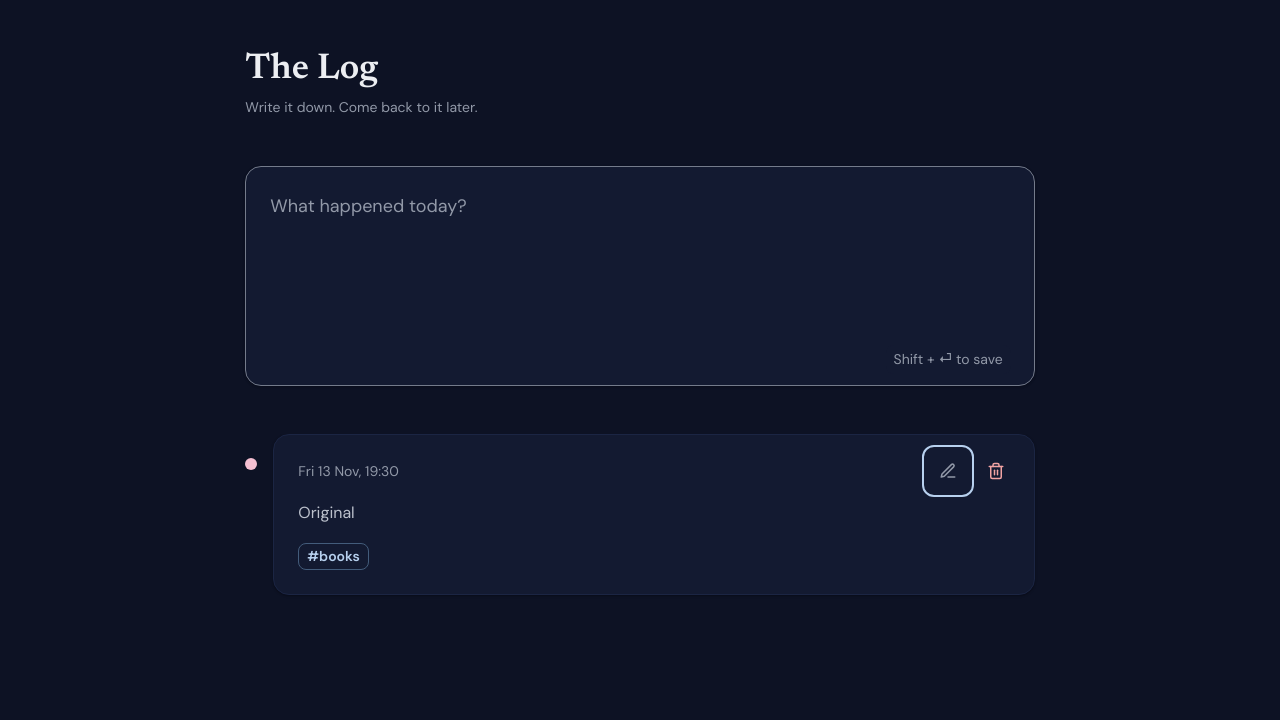
it: fills the opener button while its dialog is open and clears it on close
Click the button named "Edit thought, Fri 13 Nov, 19:30" at (948, 471), box top-left (926, 449), bottom-right (970, 493)
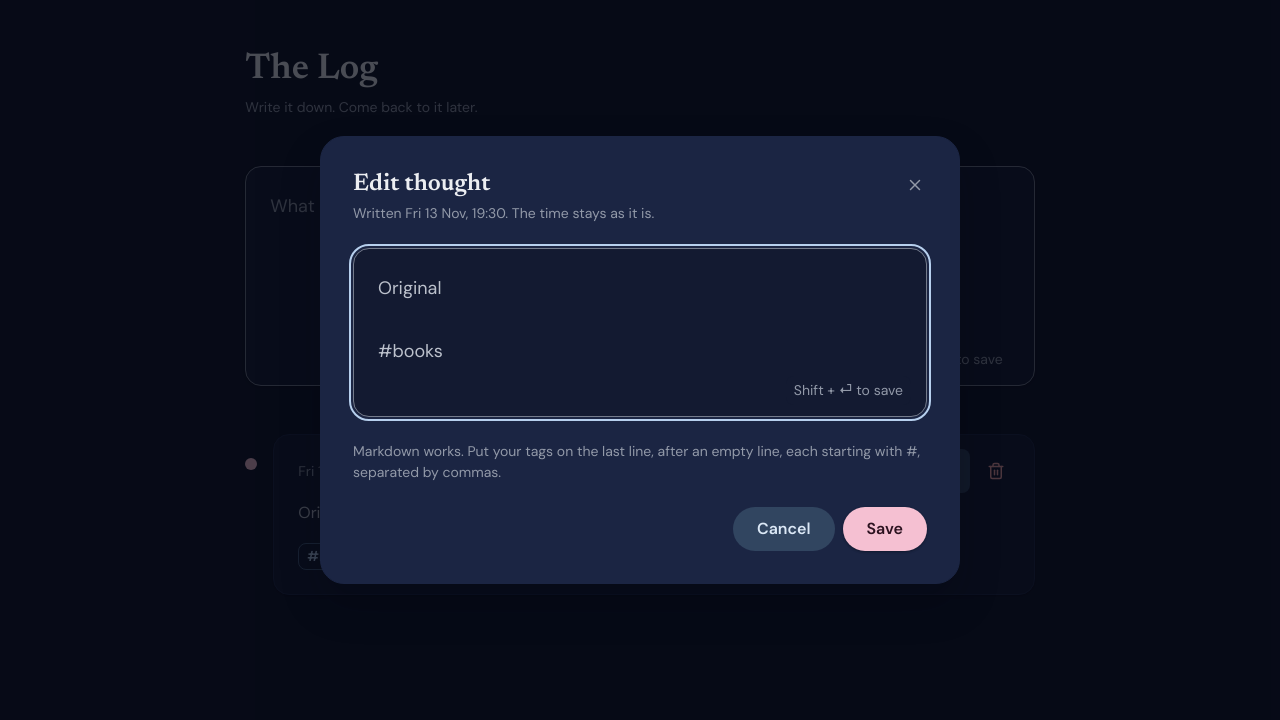
Check: the button named "Edit thought, Fri 13 Nov, 19:30" has attribute data-dialog-open, box top-left (926, 449), bottom-right (970, 493)
Click the button "Cancel" at (784, 529), box top-left (733, 507), bottom-right (834, 551)
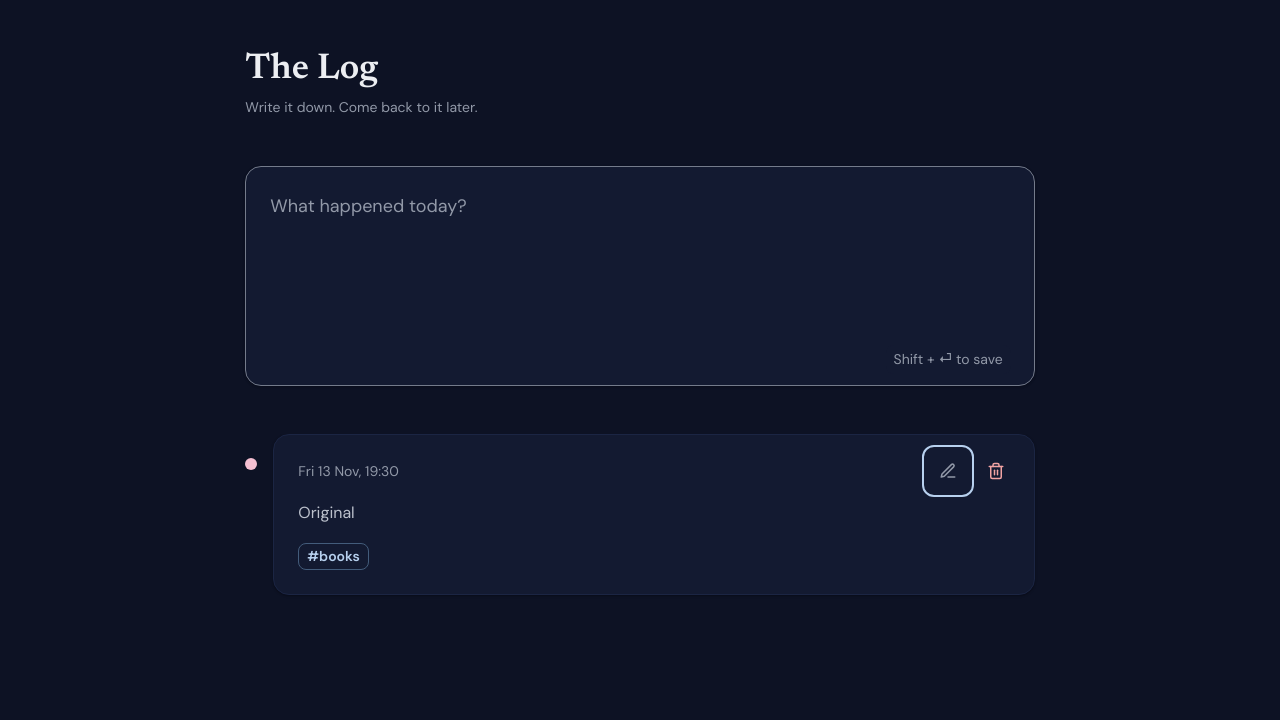
Check: the button named "Edit thought, Fri 13 Nov, 19:30" does not have attribute data-dialog-open, box top-left (926, 449), bottom-right (970, 493)
